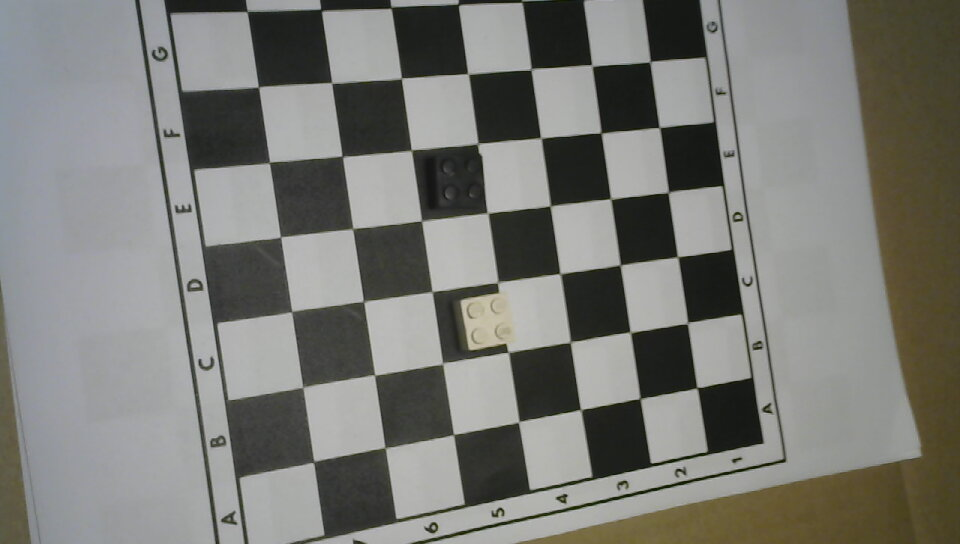bp: (422, 149, 488, 216)
